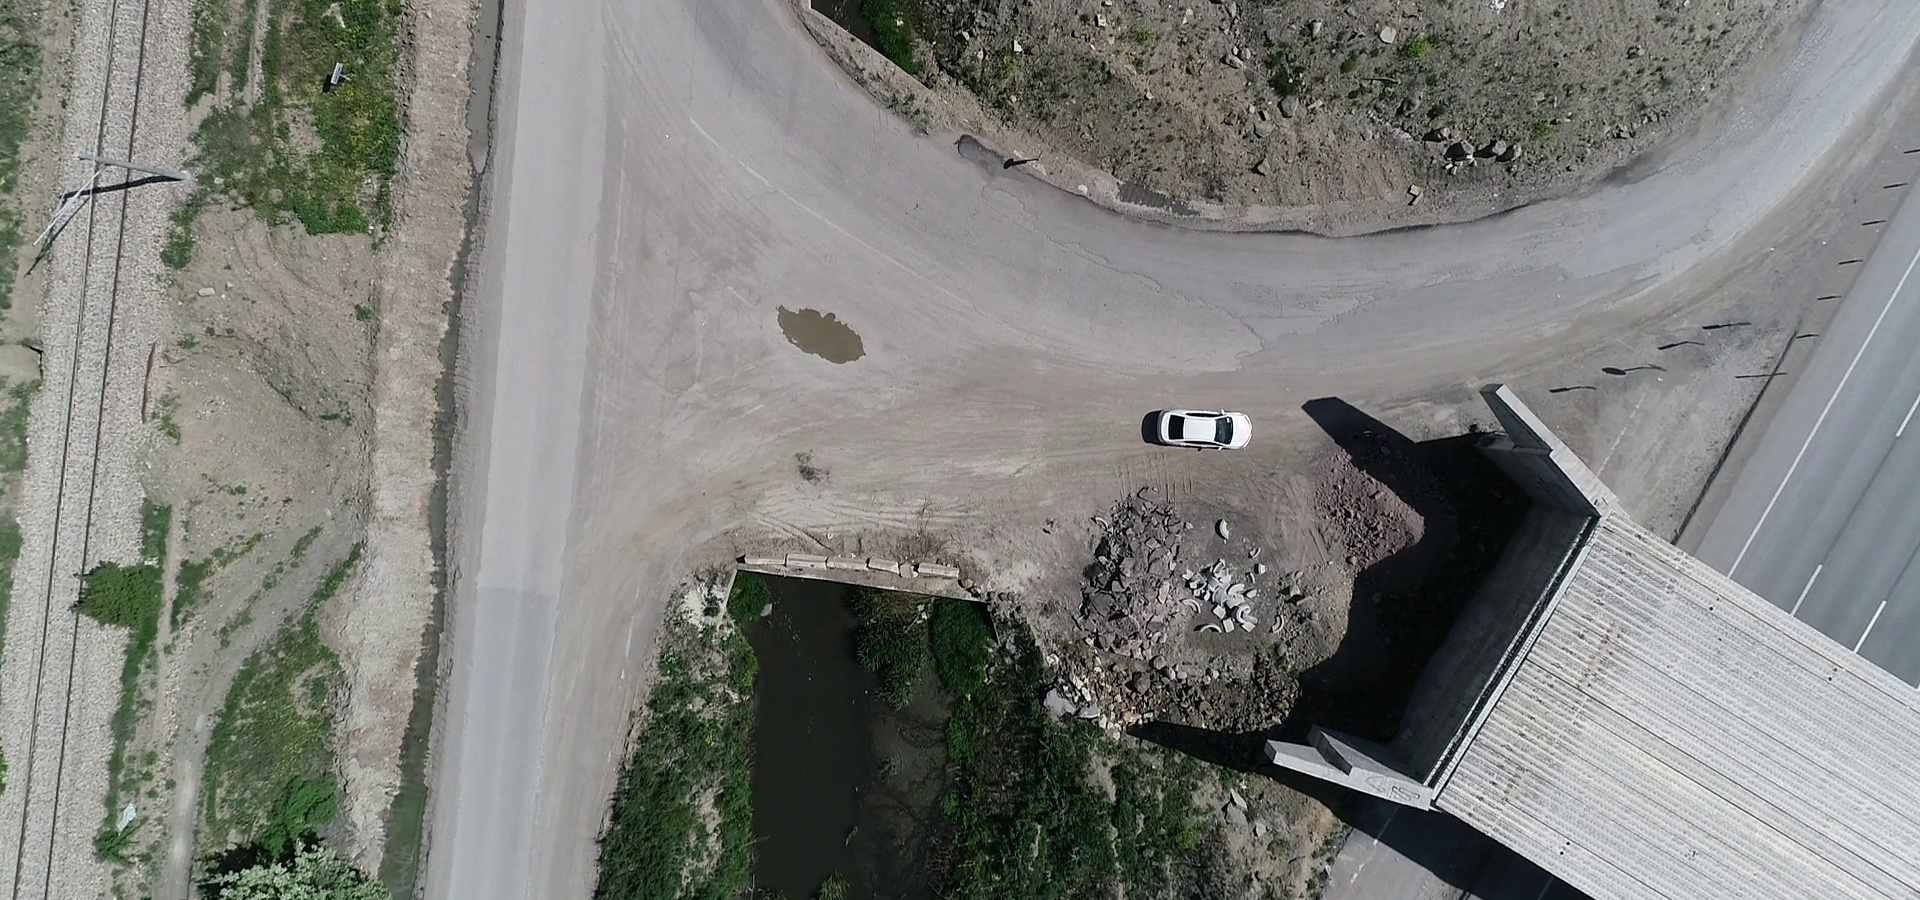arac: (1151, 400, 1260, 460)
